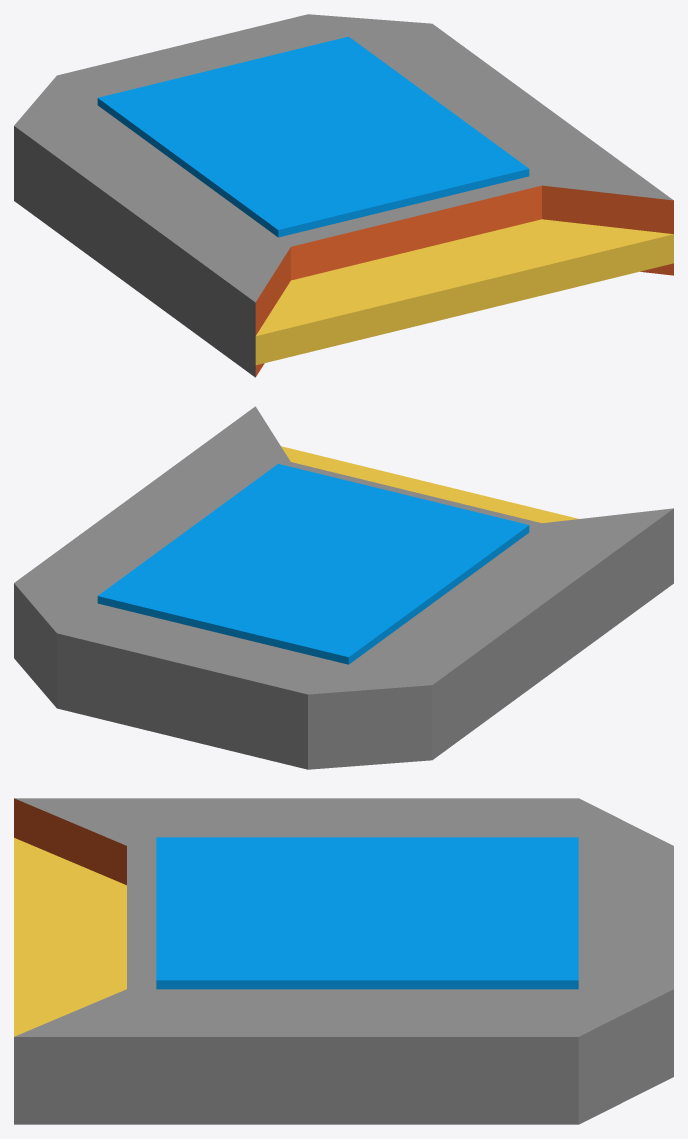
File: Upgrade_Water_01.fbx
3 renders of one model, top to bottom at view 1: azimuth 30°, elevation 25°; view 2: azimuth 150°, elevation 25°; view 3: azimuth 270°, elevation 25°, orthographic. The views are drawn at different scales.
Parts seen in each view (by area): view 1: Cube.001; view 2: Cube.001; view 3: Cube.001.
Part boxes in pixels (x1=…): Cube.001: x1=14, y1=14, x2=673, y2=377; Cube.001: x1=14, y1=406, x2=673, y2=769; Cube.001: x1=14, y1=798, x2=673, y2=1124.
Bounding box in the file's own units: 86.17 × 17.74 × 101.
